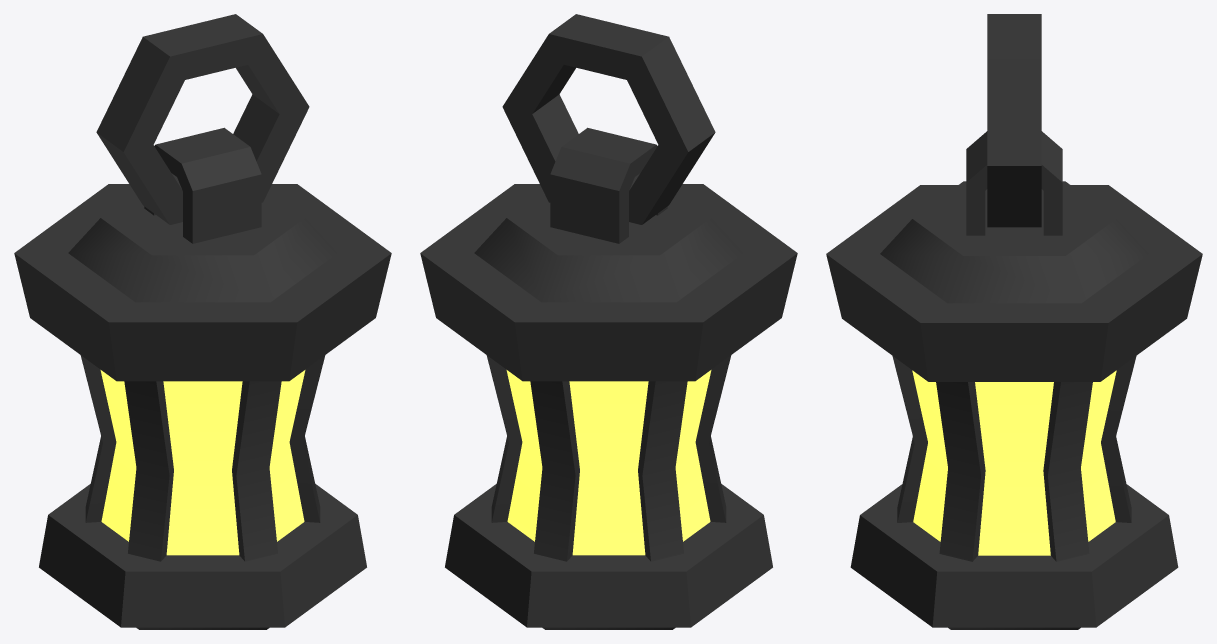
The model's file is SM_PROP_lantern_04.FBX.
3 renders of one model, left to right at view 1: azimuth 30°, elevation 25°; view 2: azimuth 150°, elevation 25°; view 3: azimuth 270°, elevation 25°, orthographic.
Parts seen in each view (by area): view 1: SM_PROP_lantern_04; view 2: SM_PROP_lantern_04; view 3: SM_PROP_lantern_04.
Part boxes in pixels (bbox=[...]): SM_PROP_lantern_04: bbox=[14, 14, 391, 629]; SM_PROP_lantern_04: bbox=[420, 14, 797, 629]; SM_PROP_lantern_04: bbox=[826, 14, 1202, 629].
Bounding box in the file's own units: 50.77 × 58.63 × 93.9.
